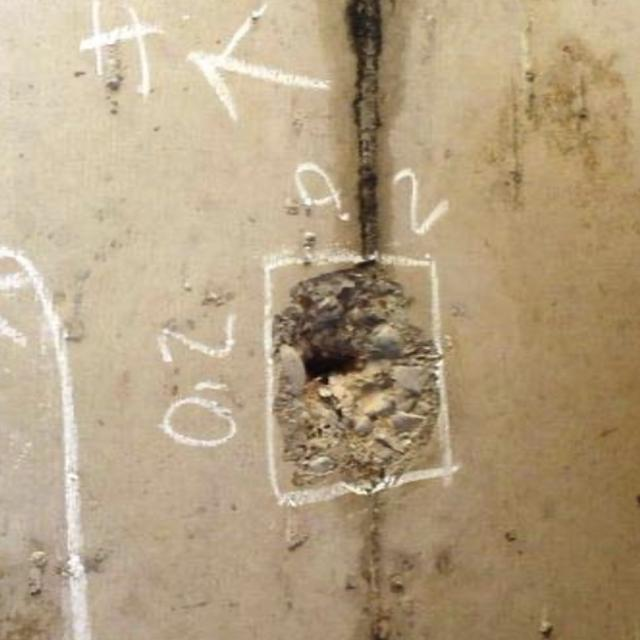spalling: (263, 254, 460, 493)
